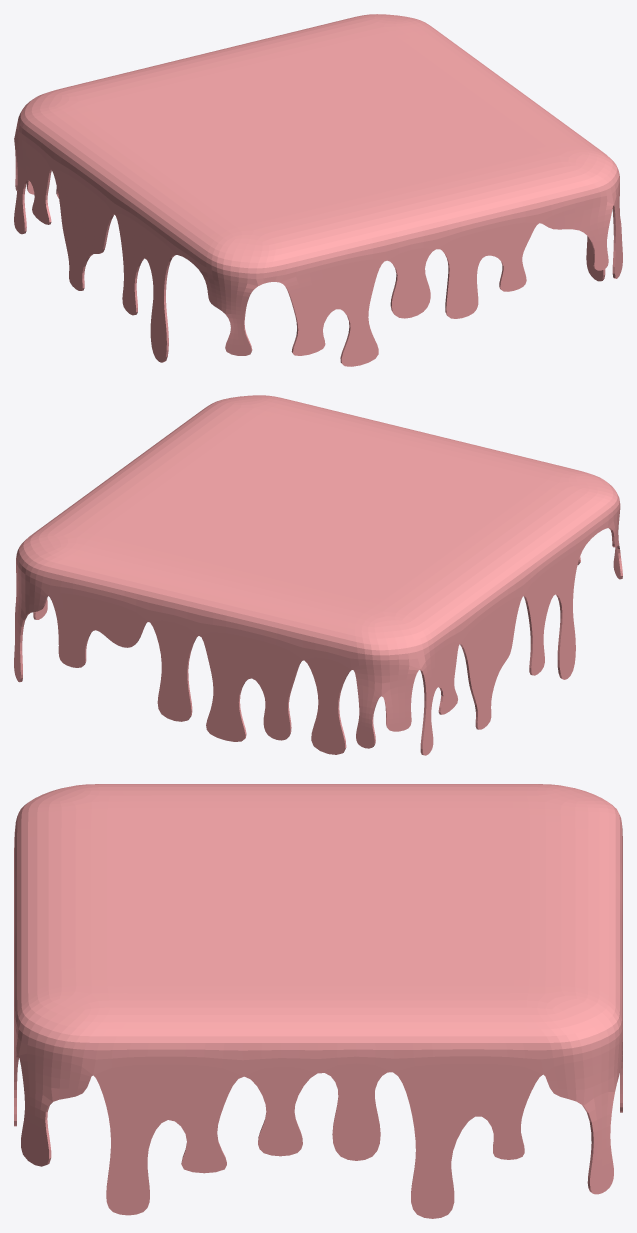
File: GlazePink.glb
3 views of the same model, one above another, from view 1: azimuth 30°, elevation 25°; view 2: azimuth 150°, elevation 25°; view 3: azimuth 270°, elevation 25° (orthographic). The views are drawn at different scales.
Visible parts, largest first — view 1: Cube.030; view 2: Cube.030; view 3: Cube.030.
Boxes of the visible parts, box(x1,y1,x2,y2) form: Cube.030: box(14, 14, 622, 366); Cube.030: box(14, 395, 622, 755); Cube.030: box(14, 784, 622, 1218).
Size of the model in its own units: 1.99 by 0.7048 by 1.99.
